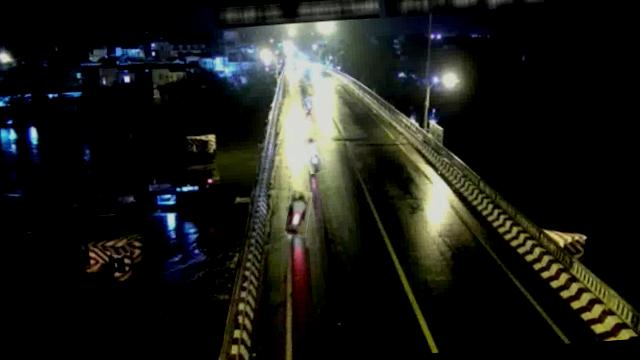Bike: (284, 188, 312, 236), (302, 135, 326, 174), (296, 69, 316, 99), (302, 88, 316, 112)
